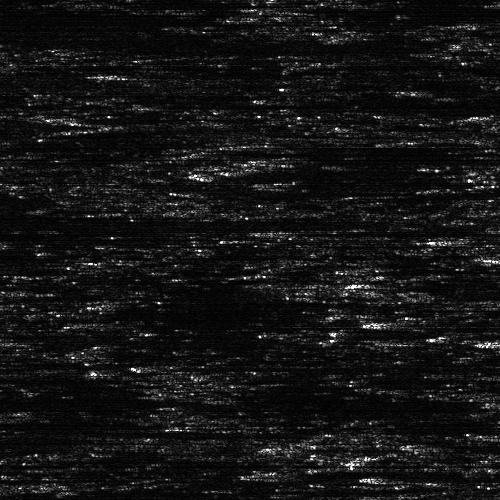rock: (198, 2, 323, 15), (230, 467, 323, 478), (186, 167, 259, 180), (245, 155, 298, 162), (83, 499, 146, 500)
shadow: (223, 167, 409, 180), (0, 218, 316, 225), (277, 467, 471, 478), (261, 2, 356, 15), (0, 425, 49, 440), (272, 155, 365, 162), (115, 499, 208, 500)
